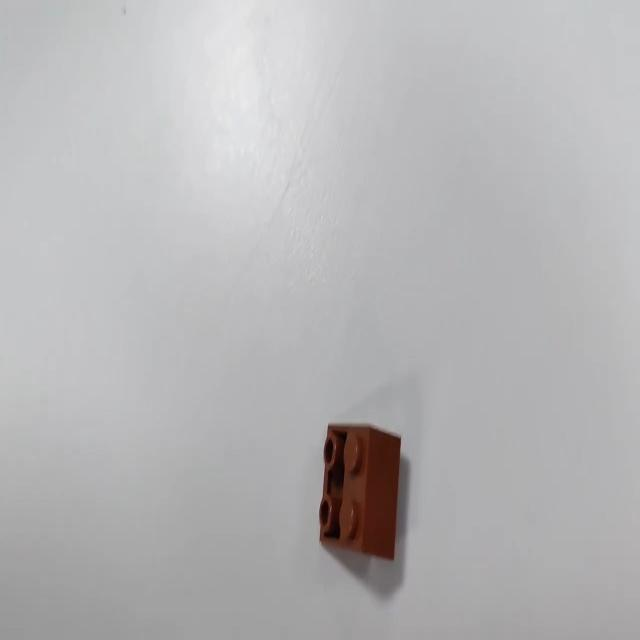X2x2x1: (318, 420, 402, 562)
